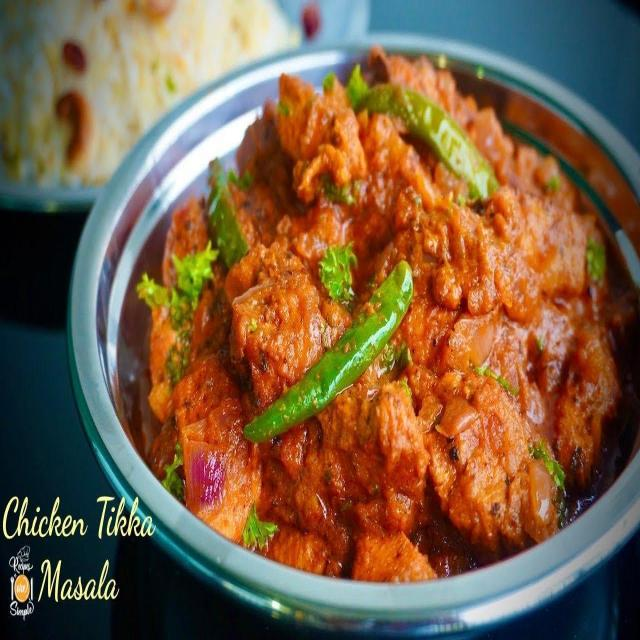chicken: (133, 54, 640, 592)
